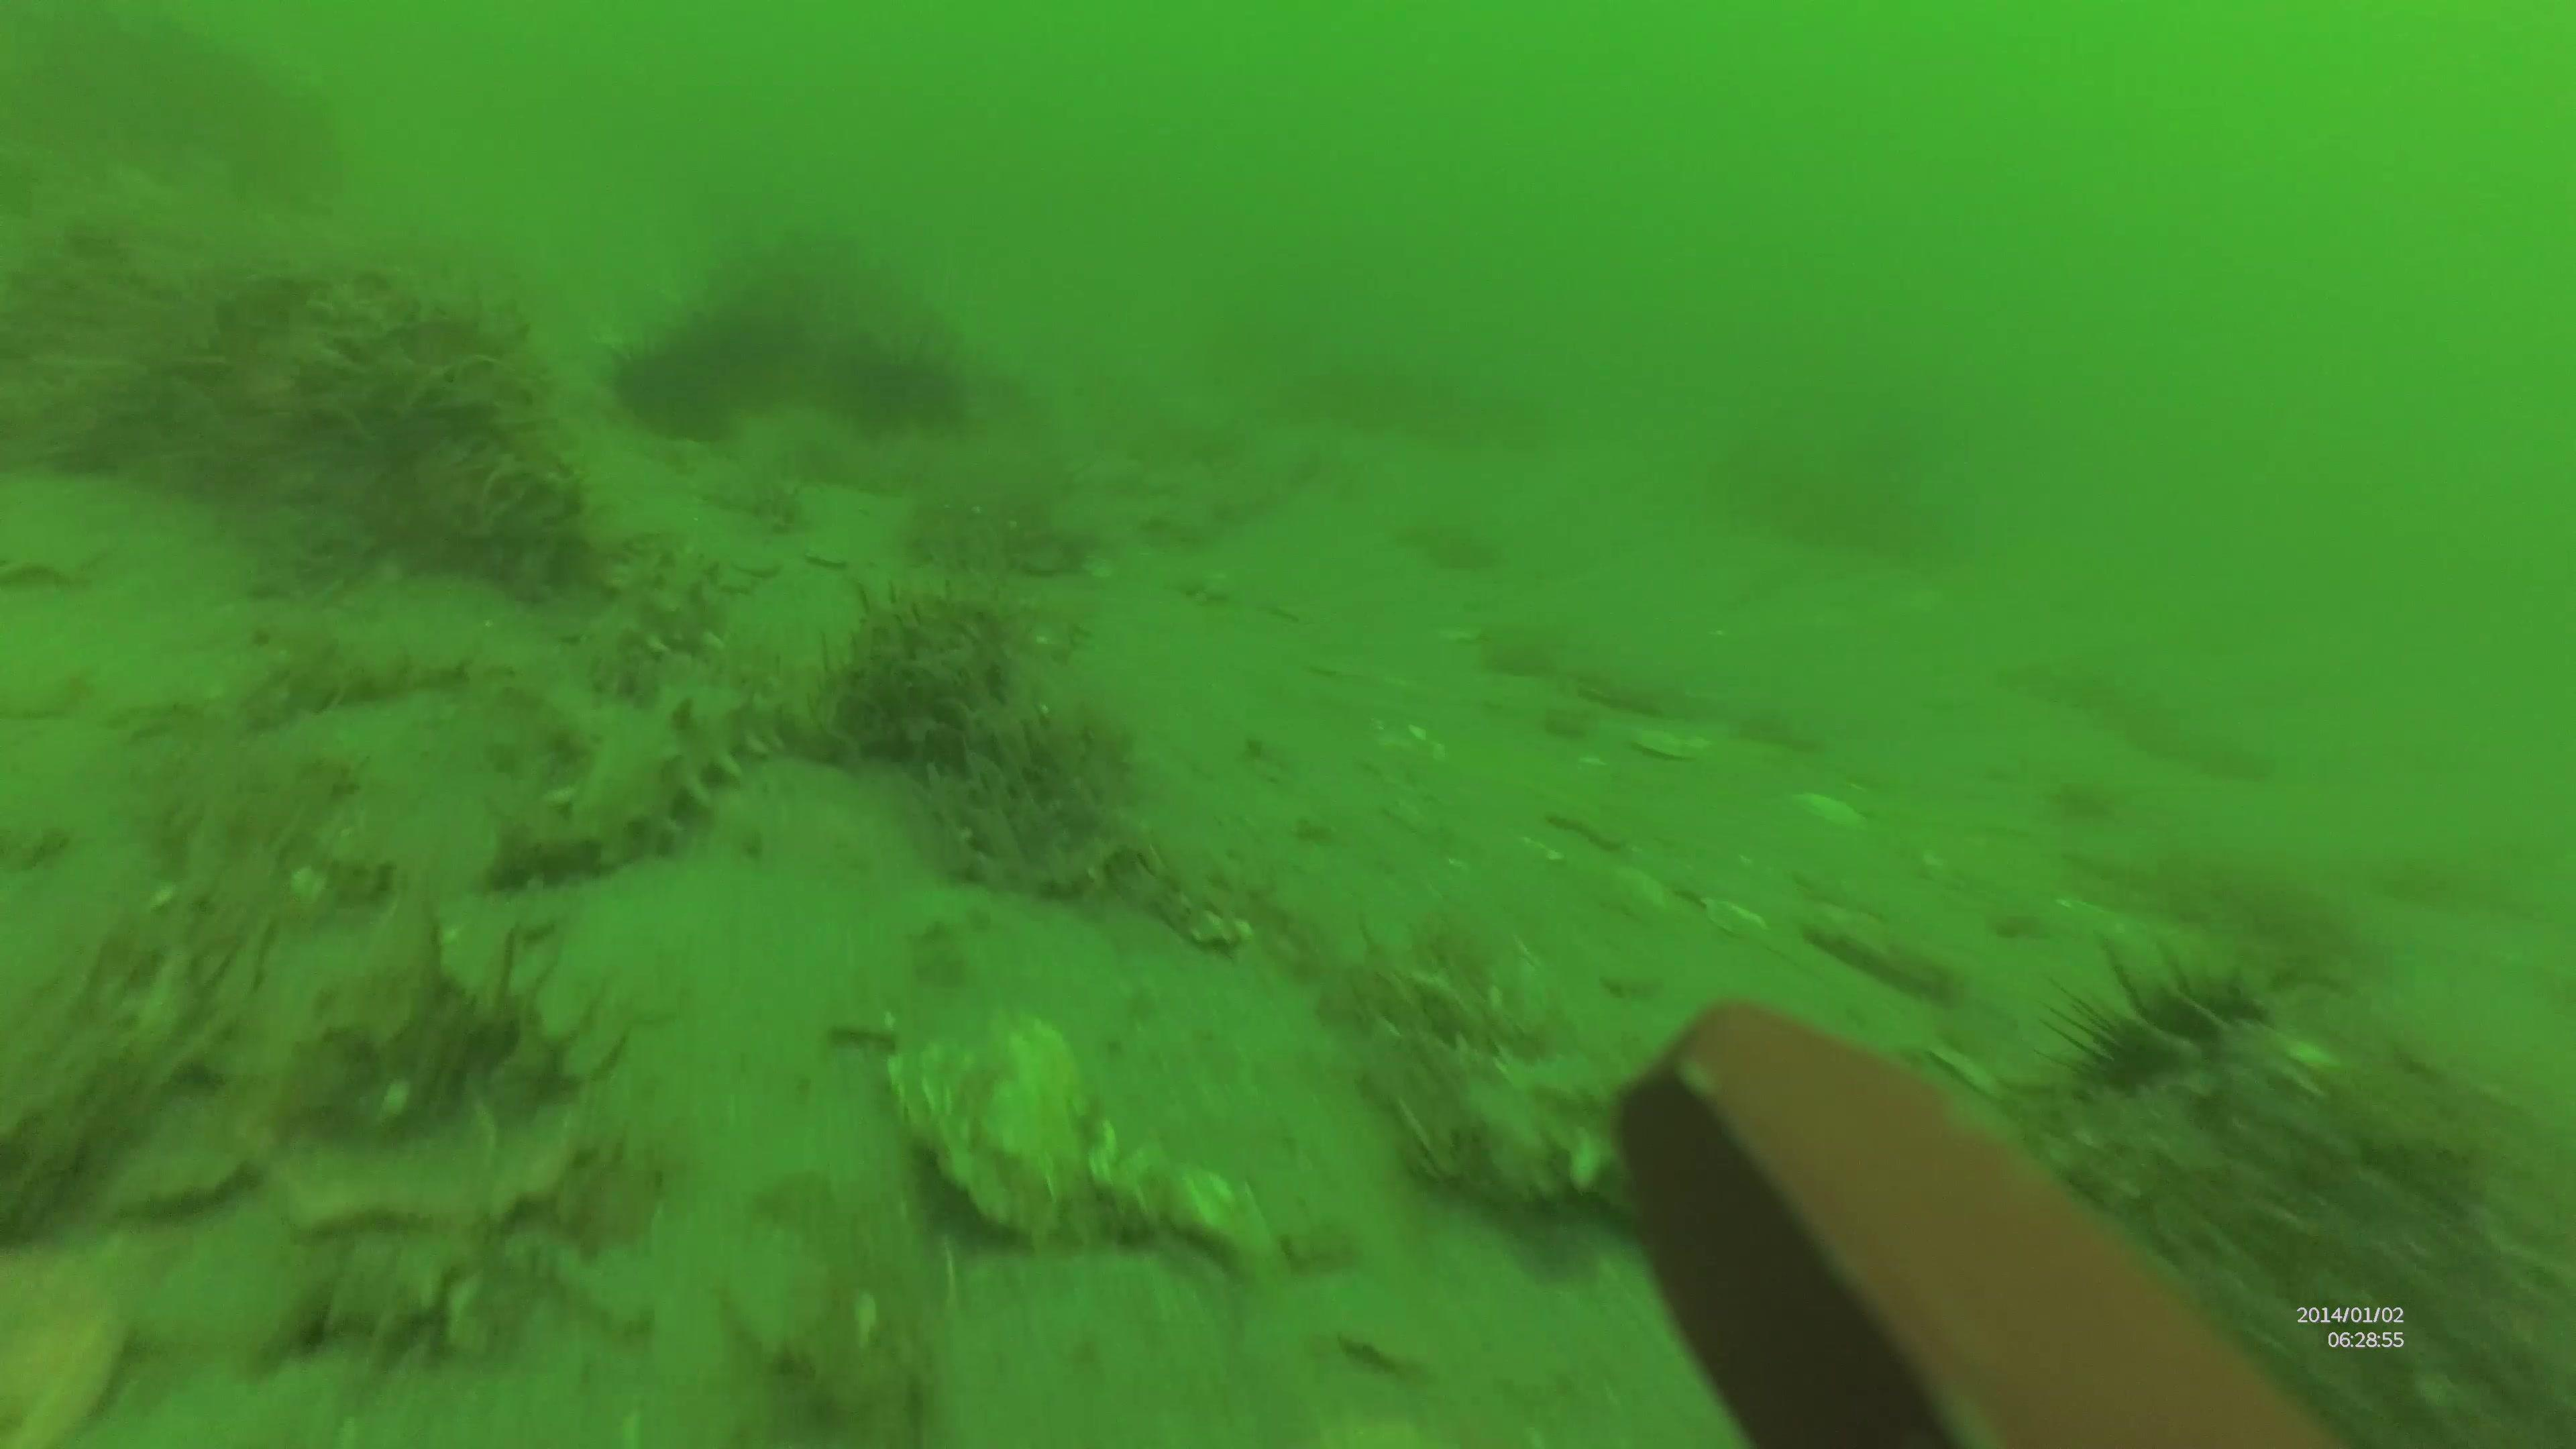echinus: (2033, 929, 2291, 1095)
holothurian: (531, 681, 828, 851), (568, 529, 732, 683)
